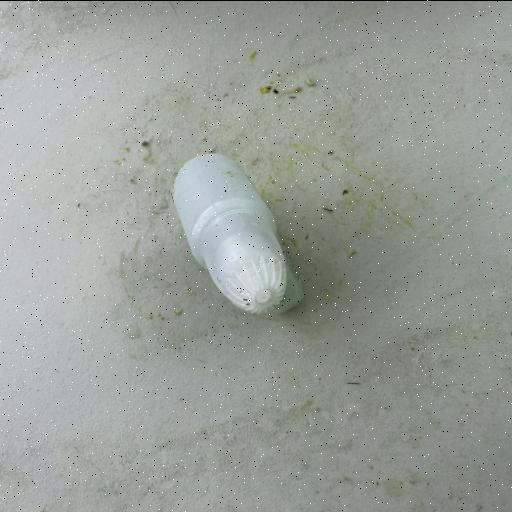Plastic: (168, 150, 306, 318)
